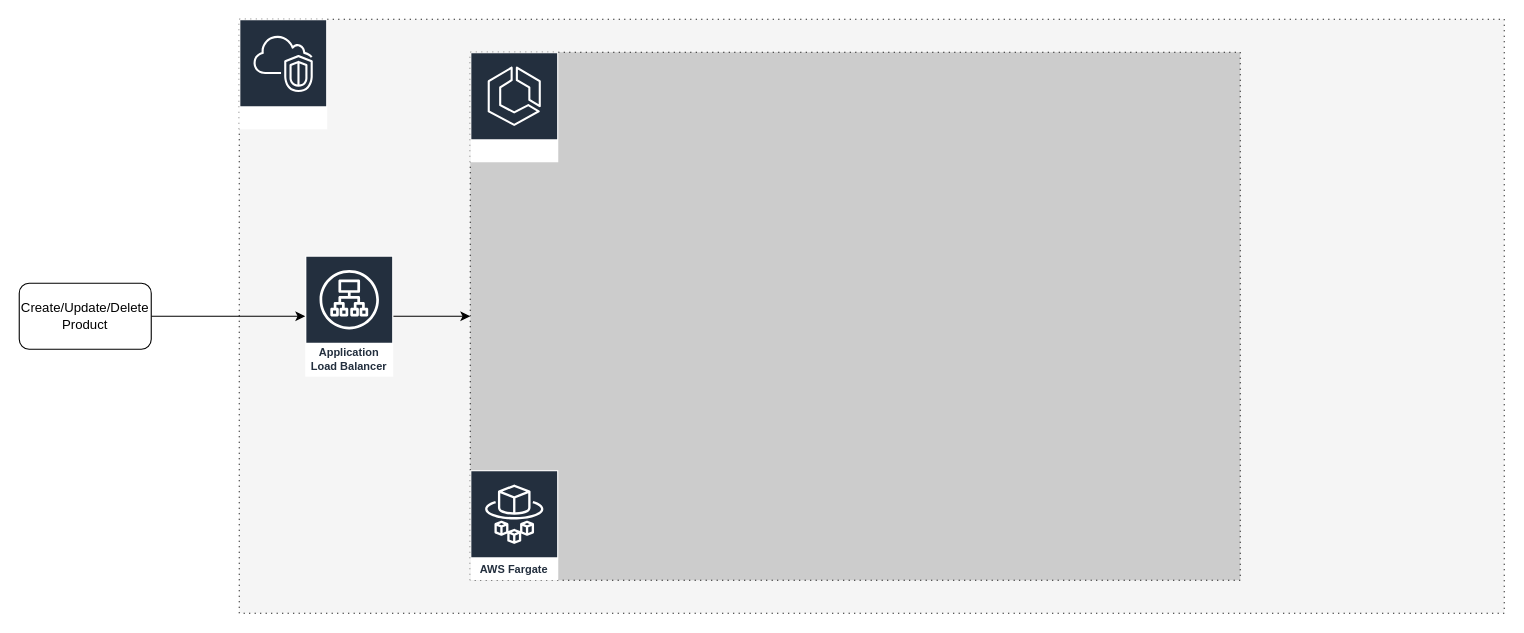
This 1524x633 diagram has some shape labels left out. Each missing label, with the centre of its shape:
"Amazon ECS" belongs at (x=513, y=106).
"Amazon VPC" belongs at (x=282, y=73).
